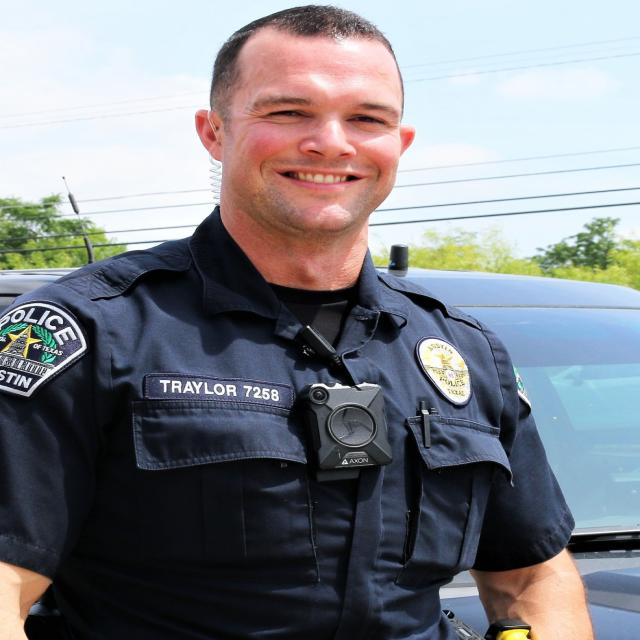police: (4, 0, 582, 640)
